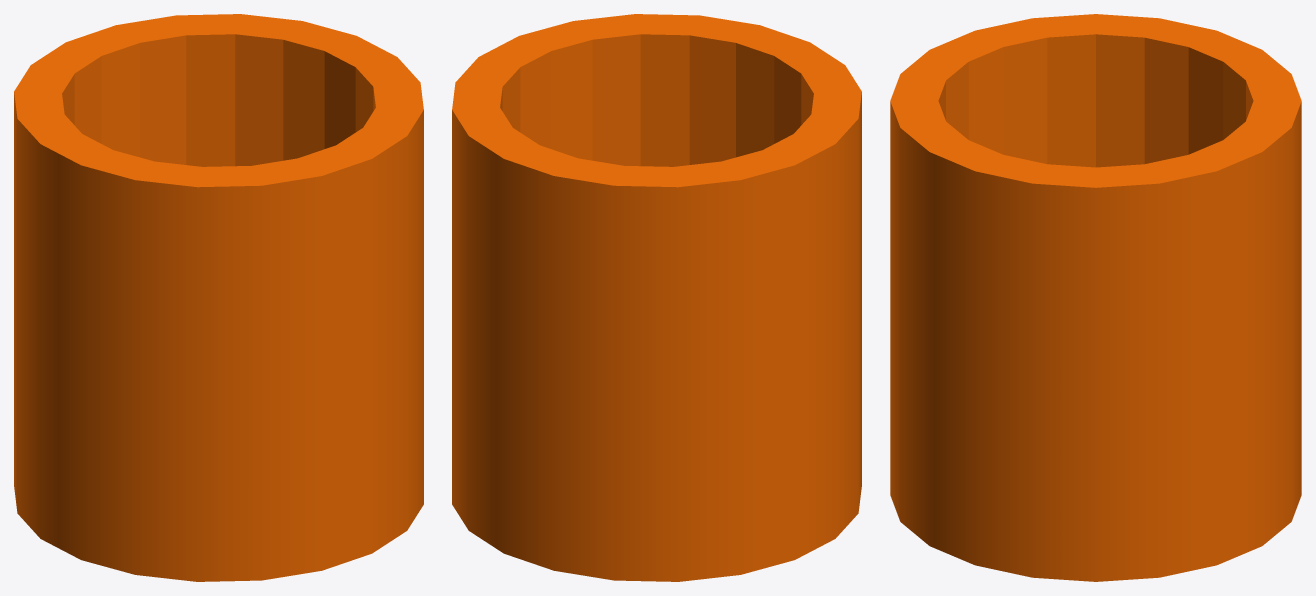
Rendered from Obstacles2.glb.
3 views of the same model, side by side, from view 1: azimuth 30°, elevation 25°; view 2: azimuth 150°, elevation 25°; view 3: azimuth 270°, elevation 25° (orthographic).
Parts seen in each view (by area): view 1: obstacle_2; view 2: obstacle_2; view 3: obstacle_2.
Part boxes in pixels (x1,y1,x2,y2): obstacle_2: (14,14,423,581); obstacle_2: (452,14,861,581); obstacle_2: (890,14,1301,581).
Size of the model in its own units: 0.0814 by 0.086 by 0.0814.
Materials: 1 (1 with a texture image).
